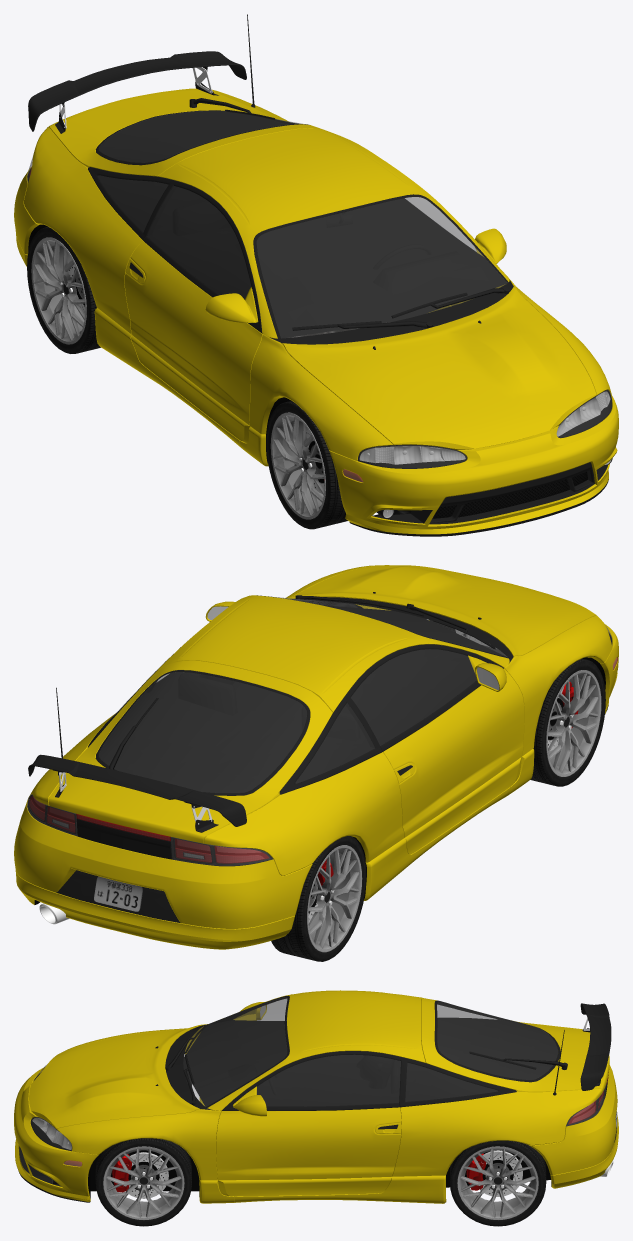
The model's file is azura.glb.
3 renders of one model, top to bottom at view 1: azimuth 30°, elevation 25°; view 2: azimuth 150°, elevation 25°; view 3: azimuth 270°, elevation 25°, orthographic. The views are drawn at different scales.
Parts seen in each view (by area): view 1: Body_Azura_Body_0, Glass_Azura_Glass_0, Interior_Azura_Black_0, Details_Azura_Plastic_0, Details_Azura_Textures_0, WH_RR_Azura_Alloy_0, WH_FR_Azura_Alloy_0, WH_FR_Azura_Tire_0, WH_RR_Azura_Tire_0; view 2: Body_Azura_Body_0, Glass_Azura_Glass_0, Interior_Azura_Black_0, Details_Azura_Plastic_0, WH_RR_Azura_Alloy_0, WH_FR_Azura_Alloy_0, Details_Azura_Textures_0, Details_Azura_Glass_0, WH_RR_Azura_Tire_0, WH_FR_Azura_Tire_0, Glass_Azura_Glass_Red_0, Details_Azura_Chrome_0; view 3: Body_Azura_Body_0, Glass_Azura_Glass_0, Interior_Azura_Black_0, Details_Azura_Plastic_0, WH_RL_Azura_Alloy_0, WH_FL_Azura_Alloy_0, WH_FL_Azura_Tire_0, WH_RL_Azura_Tire_0, Details_Azura_Textures_0, WH_FL_Azura_Textures_0, WH_RL_Azura_Textures_0, Details_Azura_Black_0 (+1 smaller).
Part boxes in pixels (left/top/right/bottom): Body_Azura_Body_0: left=14, top=88, right=618, bottom=534; Glass_Azura_Glass_0: left=98, top=110, right=612, bottom=517; Interior_Azura_Black_0: left=98, top=110, right=507, bottom=338; Details_Azura_Plastic_0: left=27, top=14, right=612, bottom=536; Details_Azura_Textures_0: left=28, top=224, right=612, bottom=518; WH_RR_Azura_Alloy_0: left=31, top=237, right=86, bottom=344; WH_FR_Azura_Alloy_0: left=270, top=412, right=325, bottom=519; WH_FR_Azura_Tire_0: left=266, top=400, right=347, bottom=529; WH_RR_Azura_Tire_0: left=27, top=226, right=100, bottom=353; Body_Azura_Body_0: left=14, top=565, right=618, bottom=949; Glass_Azura_Glass_0: left=52, top=596, right=612, bottom=859; Interior_Azura_Black_0: left=98, top=605, right=505, bottom=793; Details_Azura_Plastic_0: left=27, top=592, right=608, bottom=922; WH_RR_Azura_Alloy_0: left=307, top=845, right=362, bottom=952; WH_FR_Azura_Alloy_0: left=546, top=670, right=601, bottom=776; Details_Azura_Textures_0: left=30, top=621, right=612, bottom=911; Details_Azura_Glass_0: left=27, top=794, right=272, bottom=865; WH_RR_Azura_Tire_0: left=271, top=836, right=366, bottom=961; WH_FR_Azura_Tire_0: left=530, top=658, right=605, bottom=786; Glass_Azura_Glass_Red_0: left=29, top=796, right=268, bottom=863; Details_Azura_Chrome_0: left=39, top=606, right=499, bottom=924; Body_Azura_Body_0: left=14, top=990, right=618, bottom=1203; Glass_Azura_Glass_0: left=30, top=997, right=602, bottom=1182; Interior_Azura_Black_0: left=183, top=997, right=558, bottom=1106; Details_Azura_Plastic_0: left=18, top=996, right=616, bottom=1202; WH_RL_Azura_Alloy_0: left=457, top=1146, right=538, bottom=1219; WH_FL_Azura_Alloy_0: left=103, top=1146, right=184, bottom=1219; WH_FL_Azura_Tire_0: left=95, top=1138, right=191, bottom=1226; WH_RL_Azura_Tire_0: left=450, top=1140, right=546, bottom=1226; Details_Azura_Textures_0: left=30, top=1073, right=617, bottom=1187; WH_FL_Azura_Textures_0: left=112, top=1152, right=168, bottom=1198; WH_RL_Azura_Textures_0: left=466, top=1150, right=522, bottom=1196; Details_Azura_Black_0: left=88, top=1150, right=551, bottom=1198.
Bounding box in the file's own units: 1.58 × 1.26 × 3.8.
Materials: 10 (3 with a texture image).
